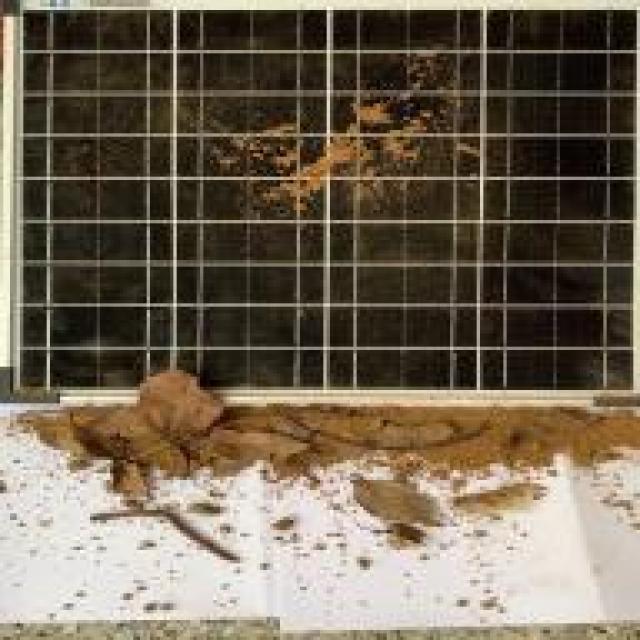dust-solar-panel: (0, 0, 640, 389)
